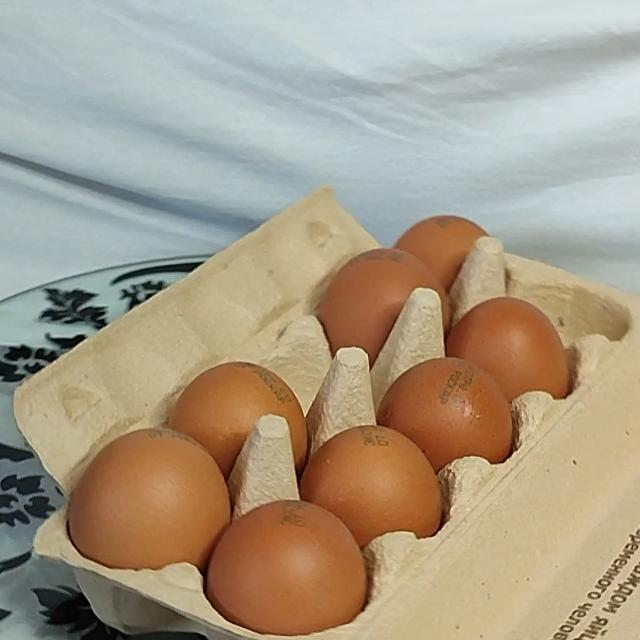egg: (5, 200, 640, 640)
